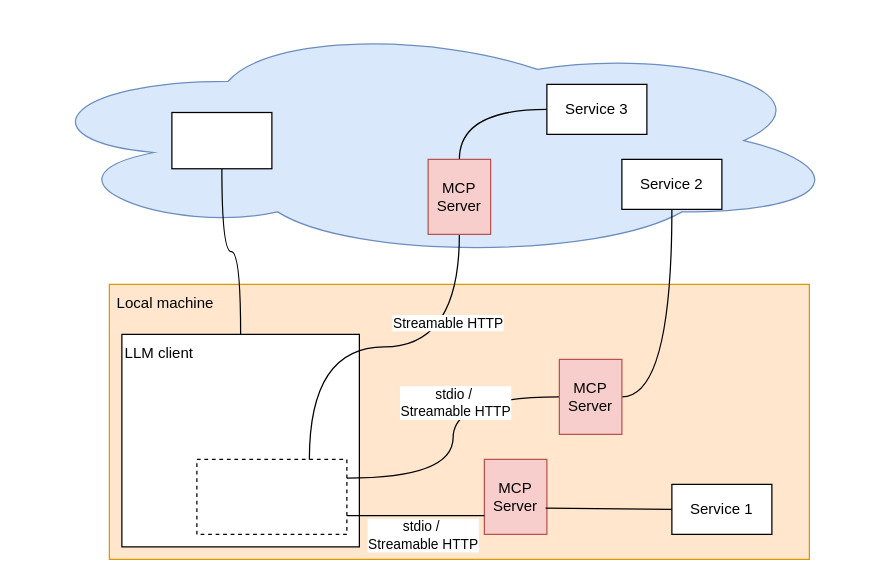
Image size: 869x581. Some labels were removed from this diagram. Each missing label, with the box of its shape:
LLM: (171, 111, 272, 169)
MCP client: (196, 458, 347, 534)
